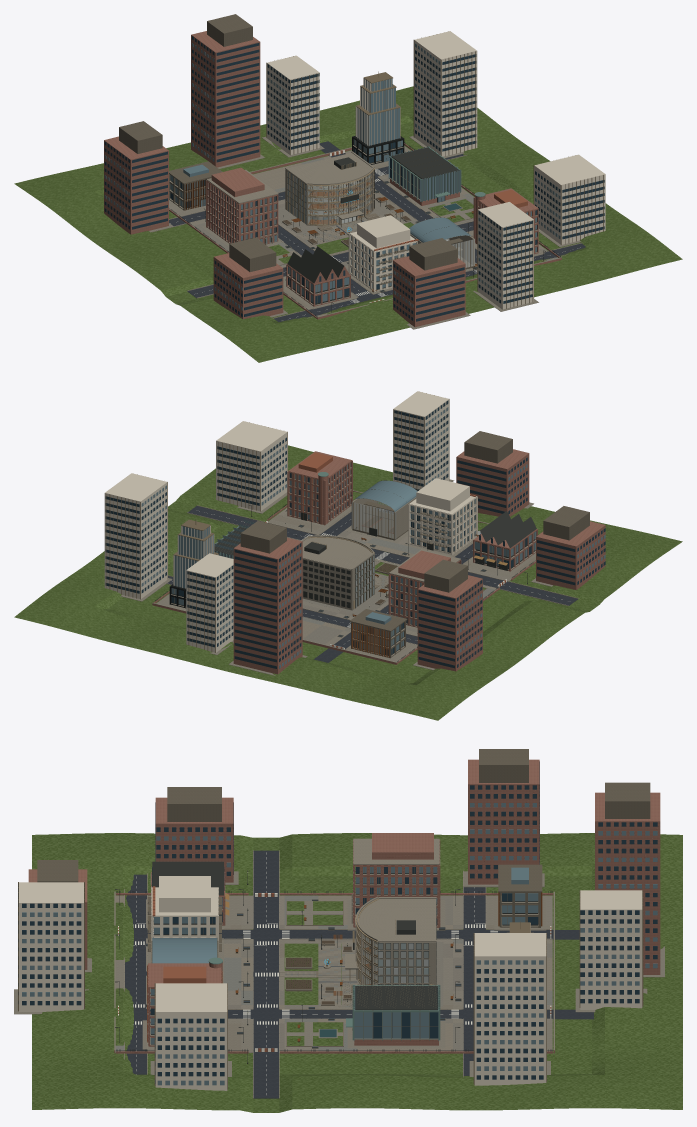
File: site-v3.glb
3 renders of one model, top to bottom at view 1: azimuth 30°, elevation 25°; view 2: azimuth 150°, elevation 25°; view 3: azimuth 270°, elevation 25°, orthographic. The views are drawn at different scales.
Visible parts, largest first — view 1: distant individual skyline mass (×2), contoured landscape context, distant ribbon window courses, distant side recessed windows (×2), distant stepped upper pavilion, distant vertical silhouette fins, connected district asphalt cells, West Exchange facade piers, North Lantern glass lantern tier, Garden Residences facade piers, Copper Arts Hall dark exhibition interior, Garden Residences penthouse setback (+21 smaller); view 2: distant individual skyline mass (×2), contoured landscape context, distant ribbon window courses, distant side recessed windows (×2), distant stepped upper pavilion, distant vertical silhouette fins, connected district asphalt cells, district sawn pedestrian paving (×4), Clay Court facade piers, Garden Residences facade piers, rear architectural service wall, North Lantern glass lantern tier (+22 smaller); view 3: contoured landscape context, distant individual skyline mass (×2), distant side recessed windows (×2), connected district asphalt cells, district sawn pedestrian paving (×9), distant stepped upper pavilion, Copper Arts Hall side exhibition glazing (×2), Copper Arts Hall dark exhibition interior, Garden Residences penthouse setback, pocket garden lawn, West Exchange facade piers, West Exchange recessed upper pavilion (+20 smaller).
Part boxes in pixels (left/top/right/bottom): distant individual skyline mass (×2): left=104, top=31, right=605, bottom=327; contoured landscape context: left=14, top=86, right=682, bottom=362; distant ribbon window courses: left=132, top=43, right=604, bottom=321; distant side recessed windows (×2): left=104, top=36, right=560, bottom=320; distant stepped upper pavilion: left=119, top=14, right=457, bottom=271; distant vertical silhouette fins: left=266, top=37, right=603, bottom=309; connected district asphalt cells: left=169, top=141, right=585, bottom=322; West Exchange facade piers: left=206, top=180, right=274, bottom=243; North Lantern glass lantern tier: left=356, top=78, right=399, bottom=145; Garden Residences facade piers: left=348, top=233, right=412, bottom=291; Copper Arts Hall dark exhibition interior: left=391, top=147, right=458, bottom=200; Garden Residences penthouse setback: left=357, top=215, right=410, bottom=248; distant individual skyline mass (×2): left=104, top=391, right=605, bottom=674; contoured landscape context: left=14, top=445, right=682, bottom=720; distant ribbon window courses: left=105, top=410, right=575, bottom=668; distant side recessed windows (×2): left=141, top=400, right=605, bottom=668; distant stepped upper pavilion: left=240, top=431, right=589, bottom=592; distant vertical silhouette fins: left=106, top=393, right=449, bottom=652; connected district asphalt cells: left=167, top=500, right=577, bottom=662; district sawn pedestrian paving (×4): left=156, top=519, right=518, bottom=662; Clay Court facade piers: left=287, top=460, right=352, bottom=525; Garden Residences facade piers: left=408, top=496, right=477, bottom=554; rear architectural service wall: left=302, top=558, right=352, bottom=610; North Lantern glass lantern tier: left=174, top=526, right=213, bottom=588; contoured landscape context: left=32, top=833, right=682, bottom=1112; distant individual skyline mass (×2): left=19, top=759, right=660, bottom=1090; distant side recessed windows (×2): left=22, top=785, right=657, bottom=1085; connected district asphalt cells: left=125, top=850, right=593, bottom=1098; district sawn pedestrian paving (×9): left=115, top=895, right=552, bottom=1052; distant stepped upper pavilion: left=37, top=749, right=650, bottom=882; Copper Arts Hall side exhibition glazing (×2): left=354, top=988, right=438, bottom=1038; Copper Arts Hall dark exhibition interior: left=355, top=986, right=437, bottom=1037; Garden Residences penthouse setback: left=159, top=876, right=210, bottom=912; pocket garden lawn: left=287, top=901, right=342, bottom=1045; West Exchange facade piers: left=353, top=840, right=440, bottom=927; West Exchange recessed upper pavilion: left=372, top=833, right=433, bottom=859.
Size of the model in its own units: 200 by 58.45 by 206.
45 materials, 18 textured.
